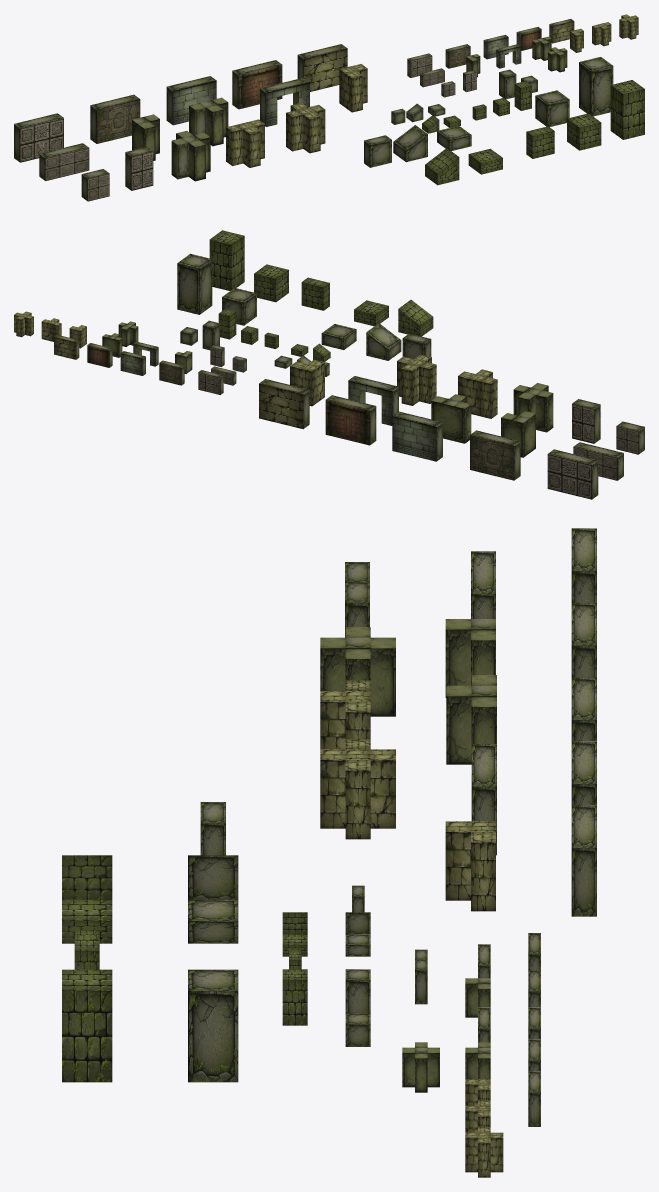
Rendered from TilesIndyStyle.glb.
3 views of the same model, one above another, from view 1: azimuth 30°, elevation 25°; view 2: azimuth 150°, elevation 25°; view 3: azimuth 270°, elevation 25° (orthographic). The views are drawn at different scales.
Parts seen in each view (by area): view 1: Cube.032, Cube.034, Cube.027, Cube.022, Cube.048, Cube.049, Cube.037, Cube.036, Cube.043, Cube.035, Cube.042, Cube.031 (+27 smaller); view 2: Cube.036, Cube.032, Cube.037, Cube.034, Cube.035, Cube.022, Cube.027, Cube.048, Cube.042, Cube.043, Cube.049, Cube.041 (+23 smaller); view 3: Cube.048, Cube.022, Cube.027, Cube.049, Cube.039, Cube.042, Cube.038, Cube.043, Cube.037, Cube.023, Cube.028, Cube.020 (+16 smaller).
Boxes of the visible parts, left/top/right/bottom form: Cube.032: left=14, top=113, right=63, bottom=162; Cube.034: left=90, top=94, right=140, bottom=143; Cube.027: left=610, top=80, right=644, bottom=139; Cube.022: left=579, top=57, right=613, bottom=116; Cube.048: left=286, top=103, right=325, bottom=153; Cube.049: left=171, top=131, right=210, bottom=181; Cube.037: left=297, top=44, right=347, bottom=91; Cube.036: left=232, top=60, right=282, bottom=109; Cube.043: left=226, top=119, right=264, bottom=167; Cube.035: left=166, top=76, right=216, bottom=125; Cube.042: left=189, top=97, right=228, bottom=146; Cube.031: left=39, top=143, right=89, bottom=180; Cube.036: left=325, top=395, right=376, bottom=445; Cube.032: left=547, top=449, right=598, bottom=499; Cube.037: left=259, top=379, right=309, bottom=429; Cube.034: left=470, top=430, right=520, bottom=480; Cube.035: left=392, top=411, right=442, bottom=461; Cube.022: left=177, top=253, right=212, bottom=314; Cube.027: left=209, top=230, right=244, bottom=290; Cube.048: left=397, top=354, right=436, bottom=405; Cube.042: left=431, top=394, right=471, bottom=443; Cube.043: left=458, top=369, right=497, bottom=418; Cube.049: left=513, top=383, right=553, bottom=432; Cube.041: left=348, top=376, right=398, bottom=425; Cube.048: left=320, top=738, right=395, bottom=839; Cube.022: left=188, top=969, right=238, bottom=1082; Cube.027: left=62, top=969, right=112, bottom=1082; Cube.049: left=320, top=627, right=395, bottom=716; Cube.039: left=445, top=821, right=495, bottom=911; Cube.042: left=446, top=675, right=496, bottom=764; Cube.038: left=445, top=619, right=495, bottom=697; Cube.043: left=320, top=680, right=370, bottom=749; Cube.037: left=571, top=805, right=596, bottom=916; Cube.023: left=188, top=855, right=238, bottom=899; Cube.028: left=62, top=855, right=112, bottom=899; Cube.020: left=188, top=899, right=238, bottom=943.
Size of the model in its own units: 109 by 8 by 42.44.
1 material, 1 textured.
